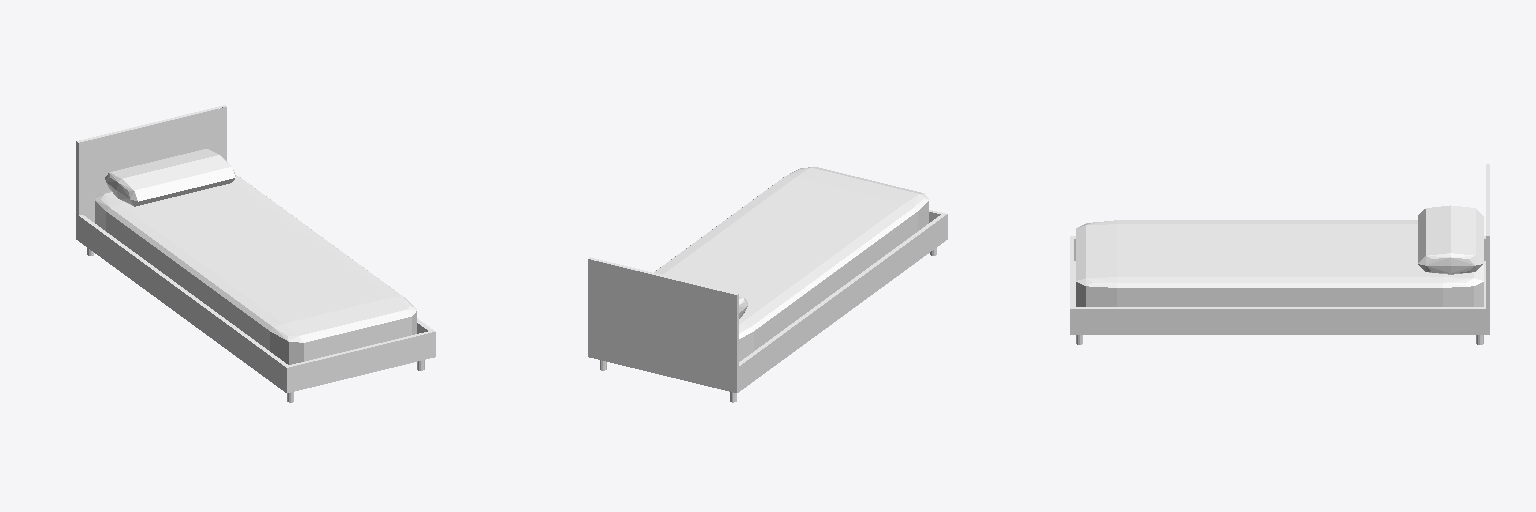
The model's file is bed.obj.
3 renders of one model, left to right at view 1: azimuth 30°, elevation 25°; view 2: azimuth 150°, elevation 25°; view 3: azimuth 270°, elevation 25°, orthographic.
Visible parts, largest first — view 1: mesh01, mesh02, mesh07; view 2: mesh01, mesh02; view 3: mesh01, mesh02, mesh07.
Boxes of the visible parts, box(x1,y1,x2,y2) form: mesh01: box(95, 175, 416, 364); mesh02: box(76, 105, 435, 392); mesh07: box(105, 149, 235, 206); mesh01: box(654, 167, 928, 361); mesh02: box(588, 210, 947, 392); mesh01: box(1076, 220, 1483, 306); mesh02: box(1070, 164, 1489, 334); mesh07: box(1418, 205, 1483, 274).
Size of the model in its own units: 139 by 99.84 by 340.